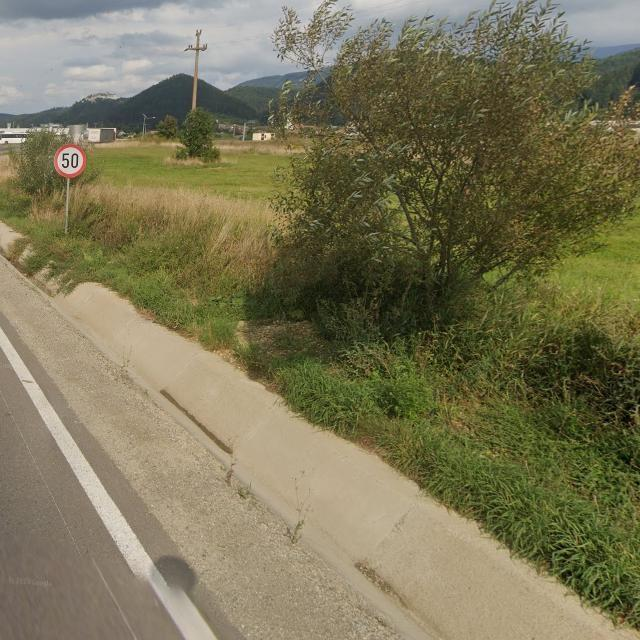forb_speed_over_50: (55, 144, 87, 180)
